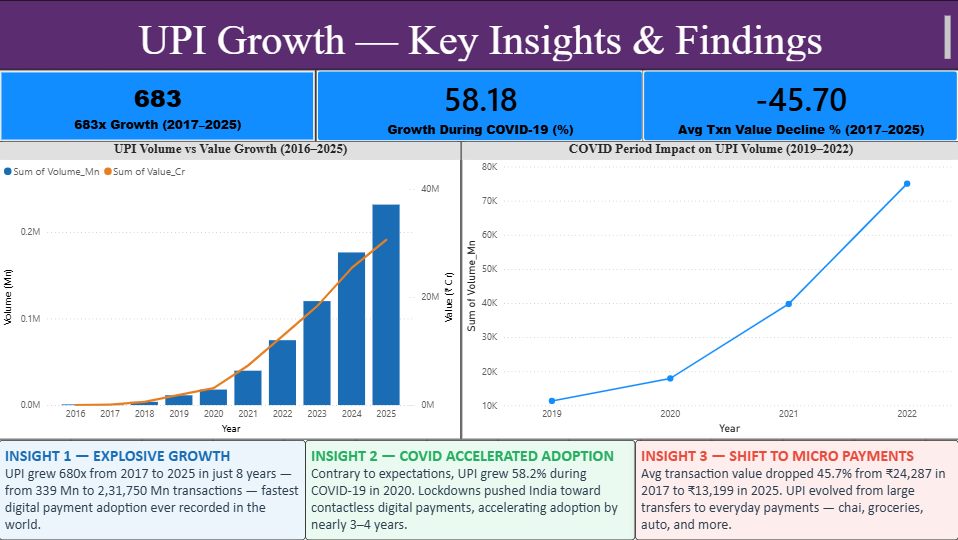

This screenshot's page, from the dashboard's own definition file:
{"tool":"powerbi","page":{"name":"Insights","canvas":[1280,720],"ordinal":2},"visuals":[{"type":"textbox","box":[0,0,1280,93],"z":0},{"type":"cardVisual","fields":{"Data":["upi_monthly.Growth Multiple"]},"box":[0,92.5,422.5,96.2],"z":1000},{"type":"cardVisual","fields":{"Data":["upi_monthly.UPI Growth During COVID (%)"]},"box":[422.5,92.5,436.2,96.2],"z":2000},{"type":"cardVisual","fields":{"Data":["upi_monthly.Avg Value Decline %"]},"box":[858.8,92.5,421.2,96.2],"z":3000},{"type":"lineClusteredColumnComboChart","title":"UPI Volume vs Value Growth (2016–2025)","fields":{"Category":["upi_monthly.Year"],"Y":["Sum(upi_monthly.Volume_Mn)"],"Y2":["Sum(upi_monthly.Value_Cr)"]},"box":[0,188.8,616.2,397.5],"z":4000},{"type":"lineChart","title":"COVID Period Impact on UPI Volume (2019–2022)","fields":{"Category":["upi_monthly.Year"],"Y":["Sum(upi_monthly.Volume_Mn)"]},"box":[616.2,188.8,663.8,397.5],"z":5000},{"type":"textbox","box":[0,586.2,408.8,133.8],"z":6000},{"type":"textbox","box":[408.8,586.2,440,133.8],"z":7000},{"type":"textbox","box":[848.8,586.2,431.2,133.8],"z":8000}]}

Visuals, with their boxes in screenshot pixels (x1, y1, x2, y2), scaled from the page's 1280x720 canvas onto the 958x540 screenshot:
textbox: pyautogui.locateOnScreen(0, 0, 957, 70)
cardVisual - upi_monthly.Growth Multiple: pyautogui.locateOnScreen(0, 69, 316, 142)
cardVisual - upi_monthly.UPI Growth During COVID (%): pyautogui.locateOnScreen(316, 69, 643, 142)
cardVisual - upi_monthly.Avg Value Decline %: pyautogui.locateOnScreen(643, 69, 957, 142)
"UPI Volume vs Value Growth (2016–2025)" lineClusteredColumnComboChart: pyautogui.locateOnScreen(0, 142, 461, 440)
"COVID Period Impact on UPI Volume (2019–2022)" lineChart: pyautogui.locateOnScreen(461, 142, 957, 440)
textbox: pyautogui.locateOnScreen(0, 440, 306, 539)
textbox: pyautogui.locateOnScreen(306, 440, 635, 539)
textbox: pyautogui.locateOnScreen(635, 440, 957, 539)
